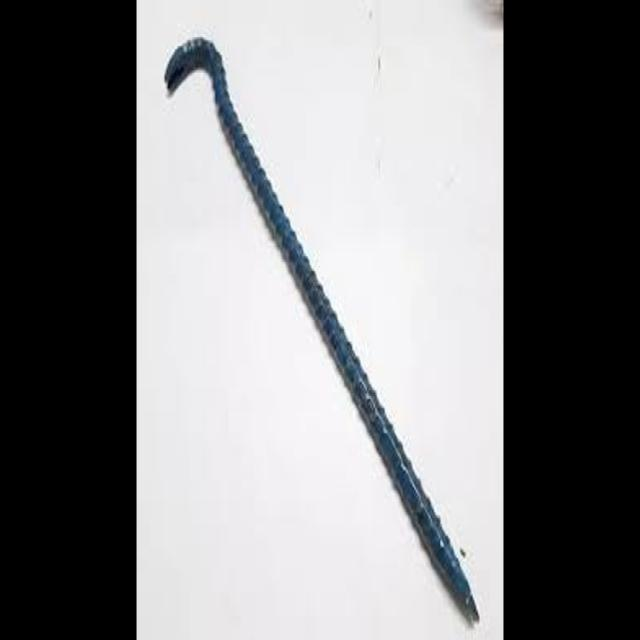Linggis: (165, 35, 484, 628)
